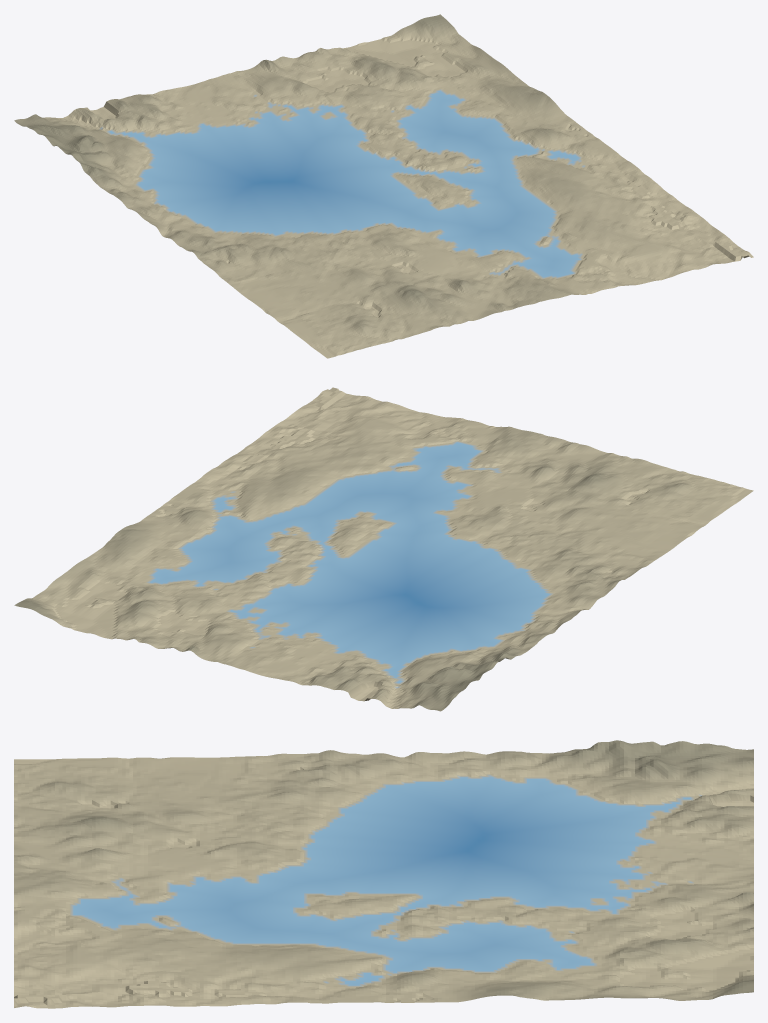
Rendered from sebago_lake_me.glb.
3 renders of one model, top to bottom at view 1: azimuth 30°, elevation 25°; view 2: azimuth 150°, elevation 25°; view 3: azimuth 270°, elevation 25°, orthographic. The views are drawn at different scales.
Parts seen in each view (by area): view 1: terrain, water; view 2: terrain, water; view 3: terrain, water.
Part boxes in pixels (x1,y1,x2,y2): terrain: [14, 14, 753, 358]; water: [109, 91, 579, 277]; terrain: [14, 387, 753, 711]; water: [150, 442, 549, 682]; terrain: [14, 740, 753, 1008]; water: [73, 777, 690, 985].
Size of the model in its own units: 16652 by 723 by 21197.
